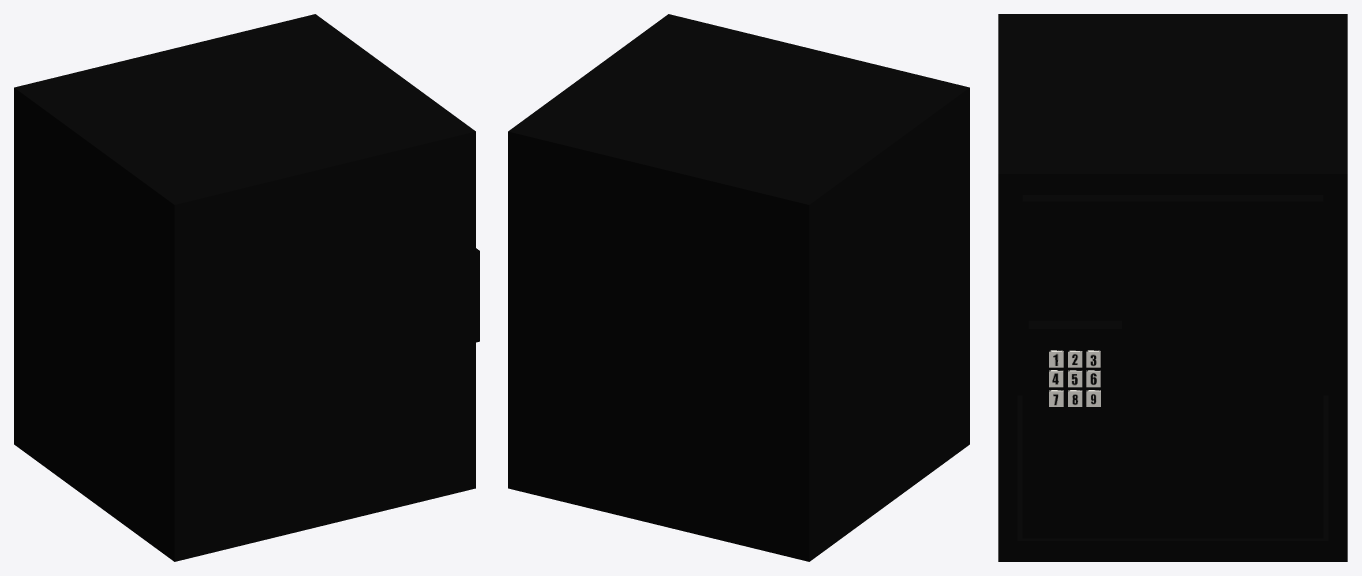
The model's file is Cofre.fbx.
3 renders of one model, left to right at view 1: azimuth 30°, elevation 25°; view 2: azimuth 150°, elevation 25°; view 3: azimuth 270°, elevation 25°, orthographic. The views are drawn at different scales.
Parts seen in each view (by area): view 1: Cube; view 2: Cube; view 3: Cube.001, Cube.
Part boxes in pixels (x1=…): Cube: x1=14, y1=14, x2=475, y2=561; Cube: x1=508, y1=14, x2=969, y2=561; Cube.001: x1=1022, y1=195, x2=1323, y2=538; Cube: x1=998, y1=14, x2=1347, y2=561.
Size of the model in its own units: 319 by 338 by 276.
